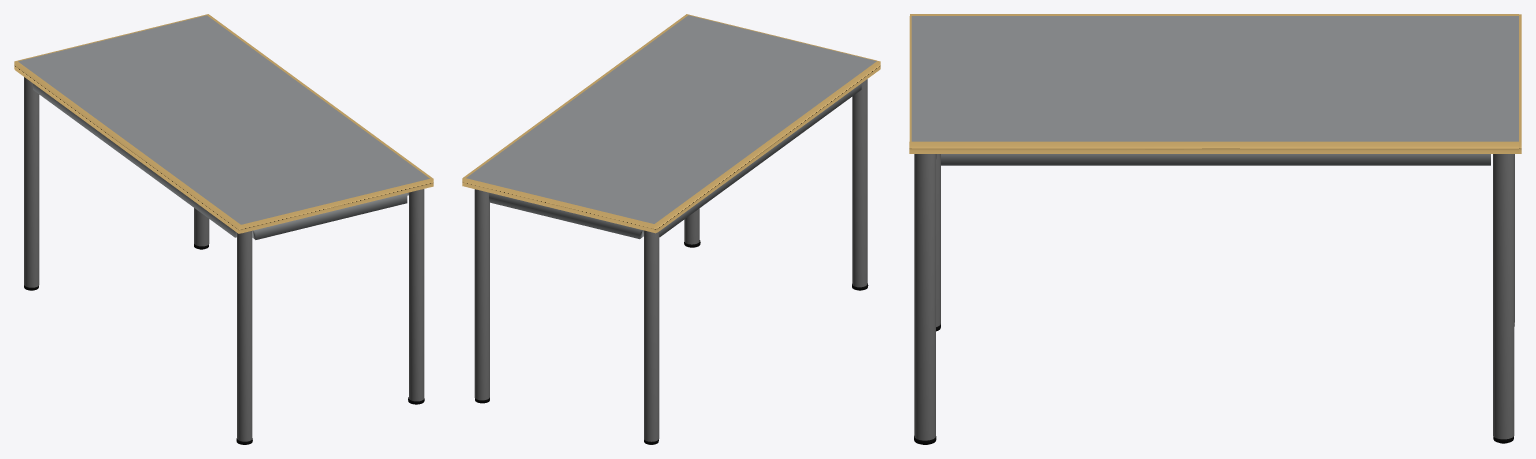
The model's file is neuertisch_6.fbx.
3 renders of one model, left to right at view 1: azimuth 30°, elevation 25°; view 2: azimuth 150°, elevation 25°; view 3: azimuth 270°, elevation 25°, orthographic. The views are drawn at different scales.
Visible parts, largest first — view 1: tischplatte_001, tischplatte, Cylinder, Cylinder_001, Cylinder_002, Cube_004, Cube_003, Cylinder_003; view 2: tischplatte_001, tischplatte, Cylinder_002, Cylinder_003, Cylinder_001, Cube_002, Cube_003, Cylinder; view 3: tischplatte_001, tischplatte, Cube_001, Cylinder, Cylinder_003, Cylinder_001.
Boxes of the visible parts, left/top/right/bottom form: tischplatte_001: left=18, top=15, right=429, bottom=224; tischplatte: left=14, top=14, right=433, bottom=233; Cylinder: left=409, top=189, right=424, bottom=401; Cylinder_001: left=237, top=231, right=252, bottom=441; Cylinder_002: left=24, top=77, right=39, bottom=287; Cube_004: left=252, top=193, right=407, bottom=239; Cube_003: left=33, top=83, right=236, bottom=237; Cylinder_003: left=194, top=208, right=209, bottom=246; tischplatte_001: left=466, top=15, right=876, bottom=223; tischplatte: left=462, top=14, right=880, bottom=233; Cylinder_002: left=644, top=230, right=659, bottom=441; Cylinder_003: left=474, top=189, right=489, bottom=400; Cylinder_001: left=852, top=79, right=867, bottom=287; Cube_002: left=489, top=192, right=643, bottom=239; Cube_003: left=659, top=83, right=861, bottom=237; Cylinder: left=684, top=208, right=699, bottom=244; tischplatte_001: left=911, top=16, right=1518, bottom=141; tischplatte: left=909, top=14, right=1521, bottom=153; Cube_001: left=941, top=154, right=1490, bottom=165; Cylinder: left=914, top=154, right=935, bottom=440; Cylinder_003: left=1493, top=154, right=1514, bottom=439; Cylinder_001: left=936, top=154, right=940, bottom=326.
Bounding box in the file's own units: 2.85 × 3.16 × 5.72.
